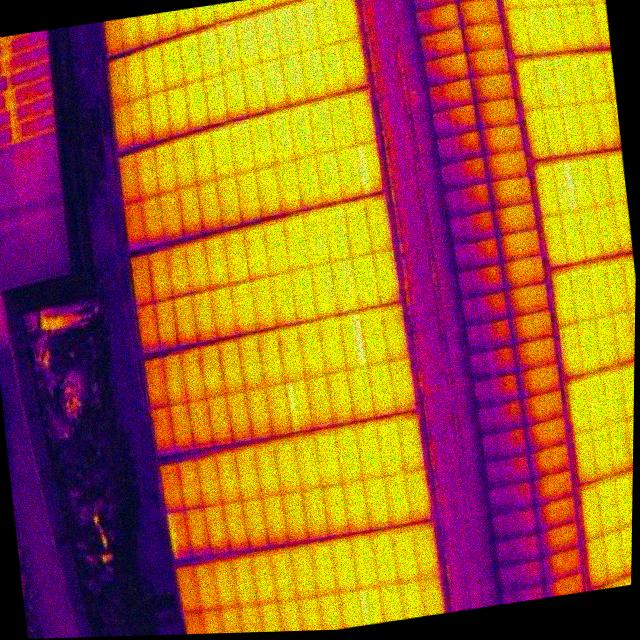Diode: (334, 306, 372, 374), (547, 156, 583, 216), (280, 375, 316, 434), (353, 135, 387, 197), (162, 505, 195, 564)
Normal: (275, 486, 313, 546), (210, 172, 248, 230)
